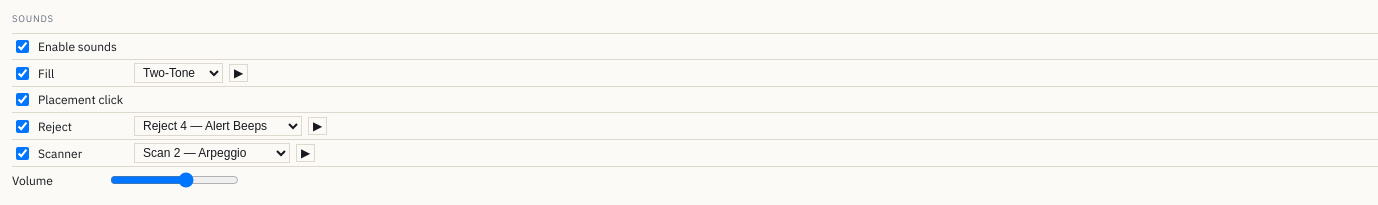
Test: SoundsSection › unchecking Scanner persists off and disables the dropdown and preview
What coordinates should you click on to do the following:
click the checkbox with test id "sound-scanner-on"
I would click on:
 (22, 153)
Its box is top-left (16, 146), bottom-right (29, 160).
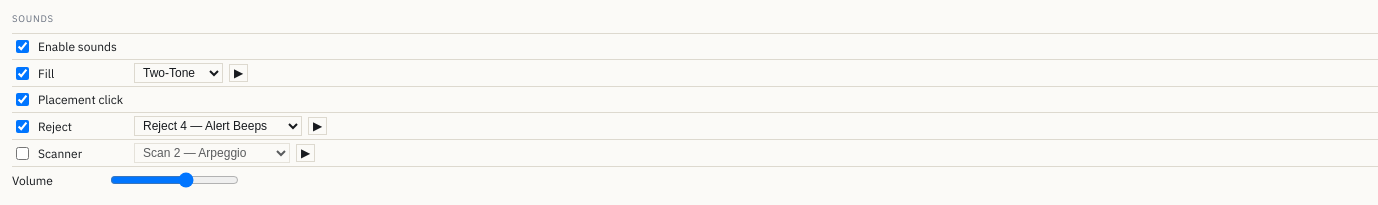
Expected: the button with test id "sound-preview-scanner" is disabled, top-left (296, 144), bottom-right (315, 162)
Result: the dropdown with test id "sound-scanner" is disabled at top-left (134, 143), bottom-right (290, 163)
